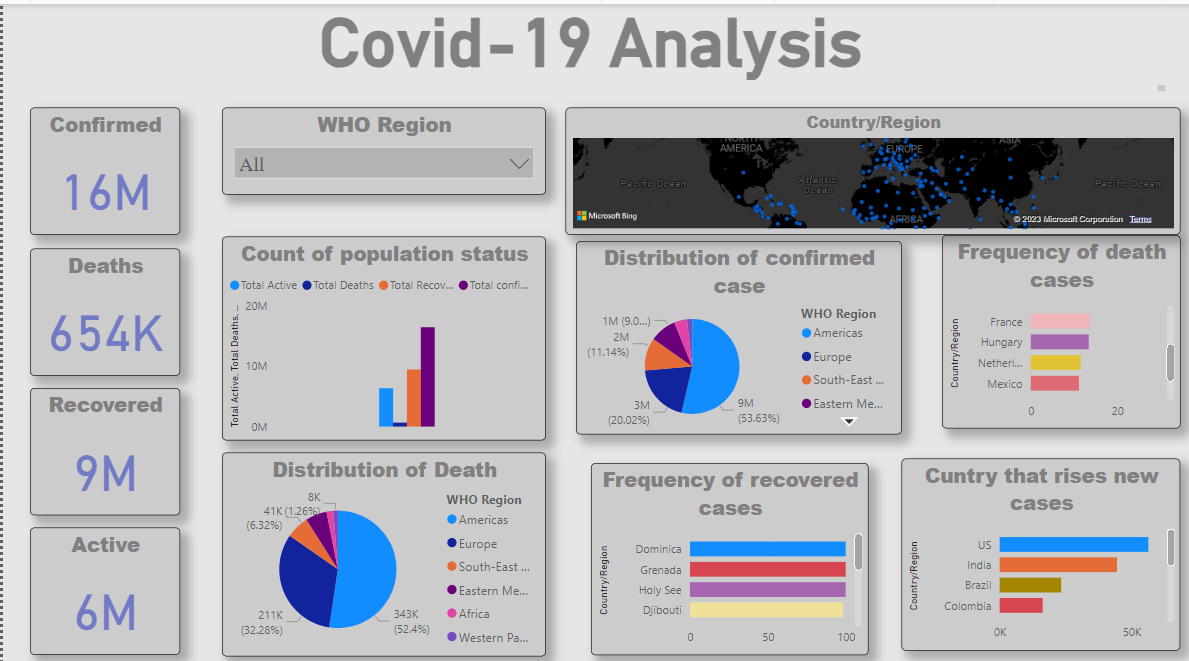

The page's visual inventory and layout, read from the dashboard file:
{"tool":"powerbi","page":{"name":"Page 1","canvas":[1280,720],"ordinal":0},"visuals":[{"type":"textbox","title":"Covid-19 Analysis","box":[9.7,0,1249.1,98.7],"z":0},{"type":"card","title":"Confirmed","fields":{"Values":["country_wise_latest.Total confirmed"]},"box":[29.1,111.6,161.8,137.5],"z":1000},{"type":"card","title":"Deaths","fields":{"Values":["country_wise_latest.Total Deaths"]},"box":[29.1,263.7,161.8,137.5],"z":2000},{"type":"card","title":"Recovered","fields":{"Values":["country_wise_latest.Total Recovered"]},"box":[29.1,414.2,161.8,137.5],"z":3000},{"type":"card","title":"Active","fields":{"Values":["country_wise_latest.Total Active"]},"box":[29.1,564.7,161.8,137.5],"z":4000},{"type":"slicer","title":" WHO Region","fields":{"Values":["country_wise_latest.WHO Region"]},"box":[236.2,111.6,349.5,93.8],"z":5000},{"type":"clusteredColumnChart","title":"Count of population status","fields":{"Y":["country_wise_latest.Total Active","country_wise_latest.Total Deaths","country_wise_latest.Total Recovered","country_wise_latest.Total confirmed"]},"box":[236.2,250.8,349.5,220],"z":6000},{"type":"pieChart","title":"Distribution of confirmed case","fields":{"Category":["country_wise_latest.WHO Region"],"Y":["Sum(country_wise_latest.Confirmed)"]},"box":[618.1,255.6,351.1,208.7],"z":8000},{"type":"pieChart","title":"Distribution of Death","fields":{"Category":["country_wise_latest.WHO Region"],"Y":["Sum(country_wise_latest.Deaths)"]},"box":[236.2,483.8,349.5,220],"z":9000},{"type":"clusteredBarChart","title":"Frequency of death cases","fields":{"Y":["Sum(country_wise_latest.Deaths / 100 Cases)"],"Category":["country_wise_latest.Country/Region"]},"box":[1012.9,249.2,257.3,208.7],"z":10000},{"type":"clusteredBarChart","title":"Frequency of recovered cases","fields":{"Category":["country_wise_latest.Country/Region"],"Y":["Sum(country_wise_latest.Recovered / 100 Cases)"]},"box":[634.2,495.1,299.3,207.1],"z":11000},{"type":"clusteredBarChart","title":"Cuntry that rises new cases","fields":{"Category":["country_wise_latest.Country/Region"],"Y":["Sum(country_wise_latest.New cases)"]},"box":[969.2,490.2,300.9,207.1],"z":12000},{"type":"map","fields":{"Category":["country_wise_latest.Country/Region"]},"box":[606.7,111.6,663.4,137.5],"z":12001}]}

Visuals, with their boxes in screenshot pixels (x1, y1, x2, y2), scaled from the page's 1280x720 canvas onto the 1189x661 screenshot:
"Covid-19 Analysis" textbox: (9,0,1169,91)
"Confirmed" card: (27,102,177,229)
"Deaths" card: (27,242,177,368)
"Recovered" card: (27,380,177,506)
"Active" card: (27,518,177,645)
" WHO Region" slicer: (219,102,544,189)
"Count of population status" clusteredColumnChart: (219,230,544,432)
"Distribution of confirmed case" pieChart: (574,235,900,426)
"Distribution of Death" pieChart: (219,444,544,646)
"Frequency of death cases" clusteredBarChart: (941,229,1180,420)
"Frequency of recovered cases" clusteredBarChart: (589,455,867,645)
"Cuntry that rises new cases" clusteredBarChart: (900,450,1180,640)
map - country_wise_latest.Country/Region: (564,102,1180,229)
